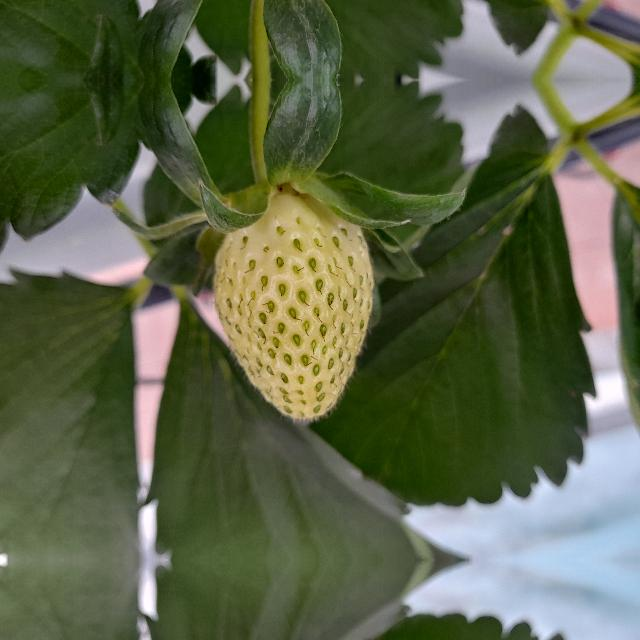Health_25: (211, 181, 375, 423)
